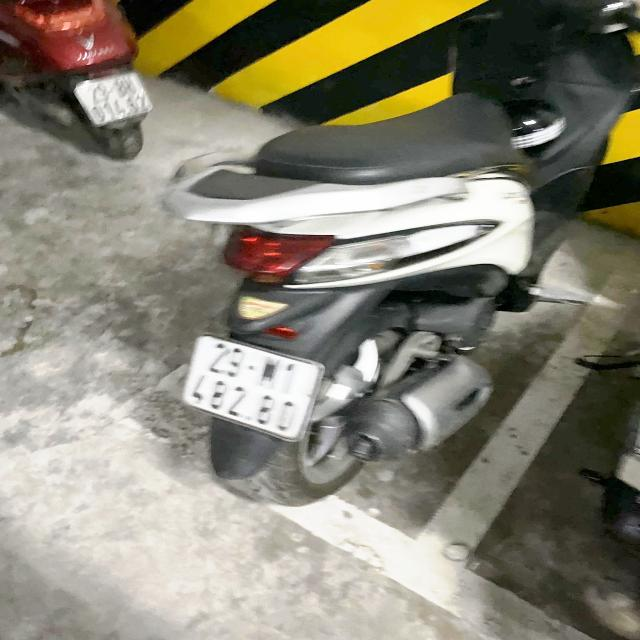license_plate: (174, 327, 337, 452)
